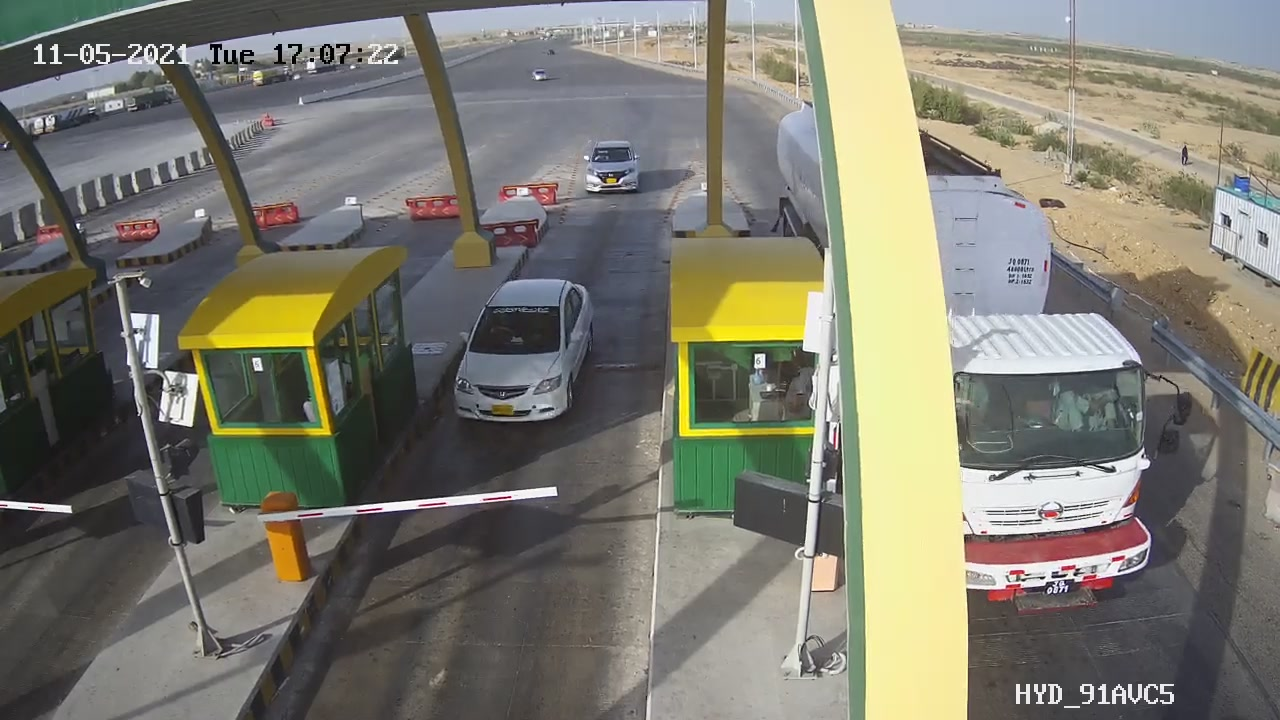F1: (438, 268, 616, 446)
